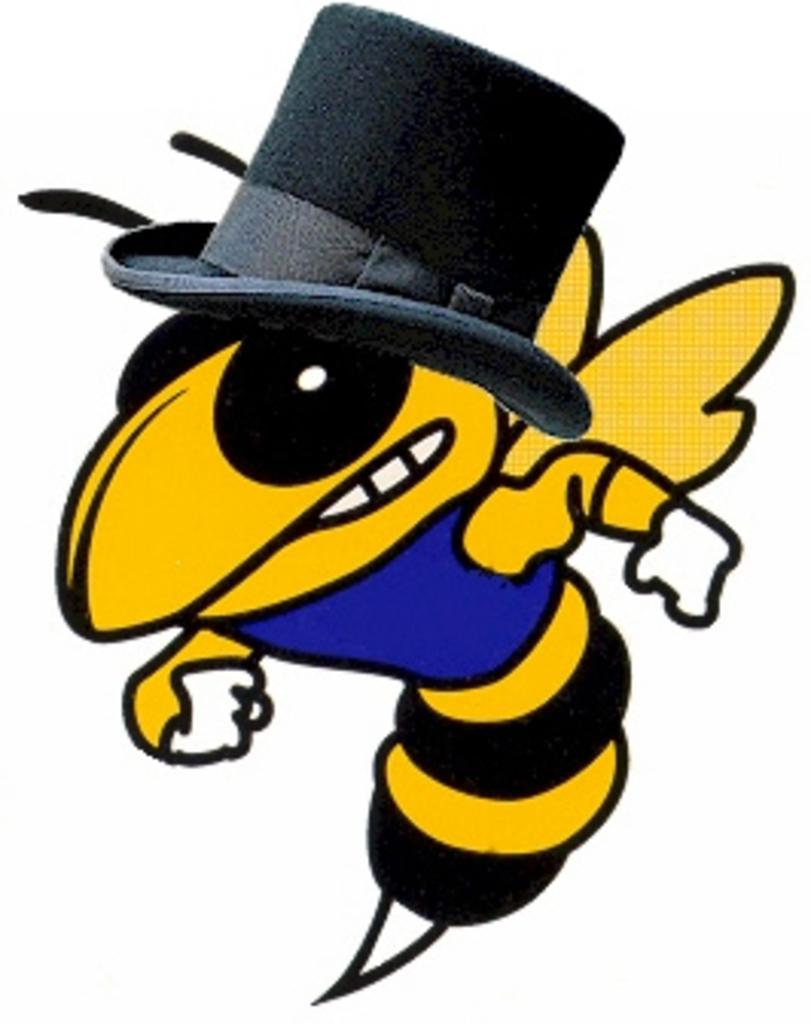Hat: (103, 0, 630, 441)
